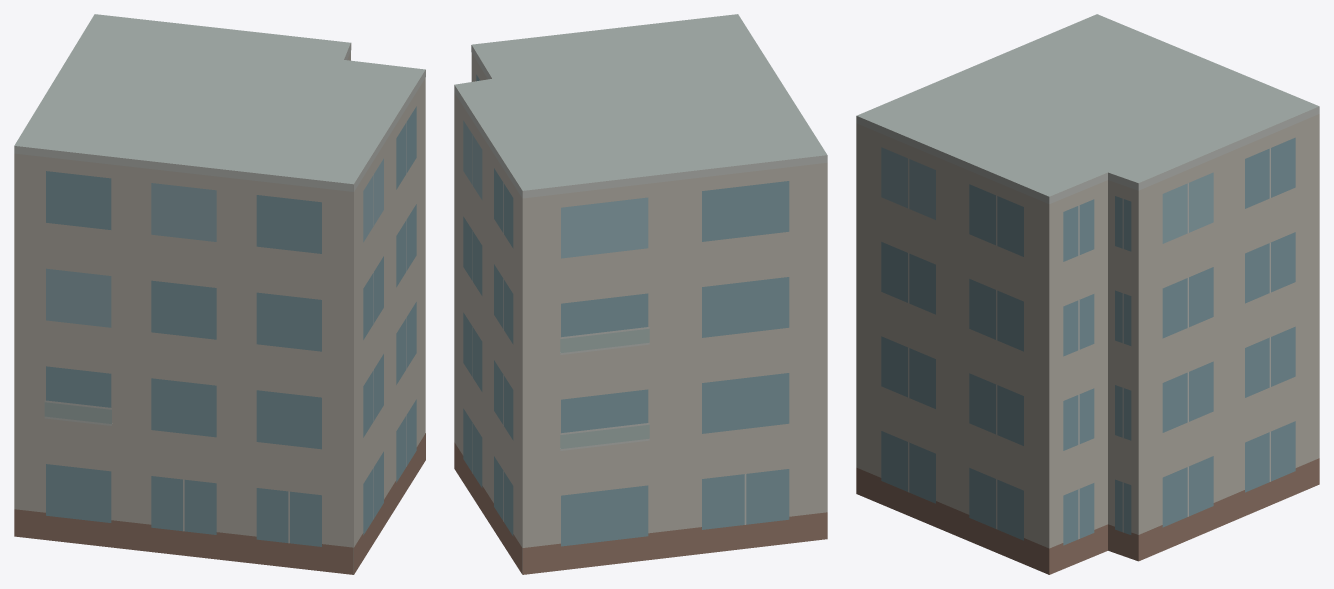
The model's file is survey-upis-32992335.glb.
3 renders of one model, left to right at view 1: azimuth 30°, elevation 25°; view 2: azimuth 150°, elevation 25°; view 3: azimuth 270°, elevation 25°, orthographic. The views are drawn at different scales.
Parts seen in each view (by area): view 1: survey-upis-32992335.tmp; view 2: survey-upis-32992335.tmp; view 3: survey-upis-32992335.tmp.
Part boxes in pixels (box(x1,y1,x2,y2)): survey-upis-32992335.tmp: box(14, 14, 425, 574); survey-upis-32992335.tmp: box(454, 14, 827, 574); survey-upis-32992335.tmp: box(856, 14, 1319, 574).
Bounding box in the file's own units: 12.76 × 12.3 × 13.66.
